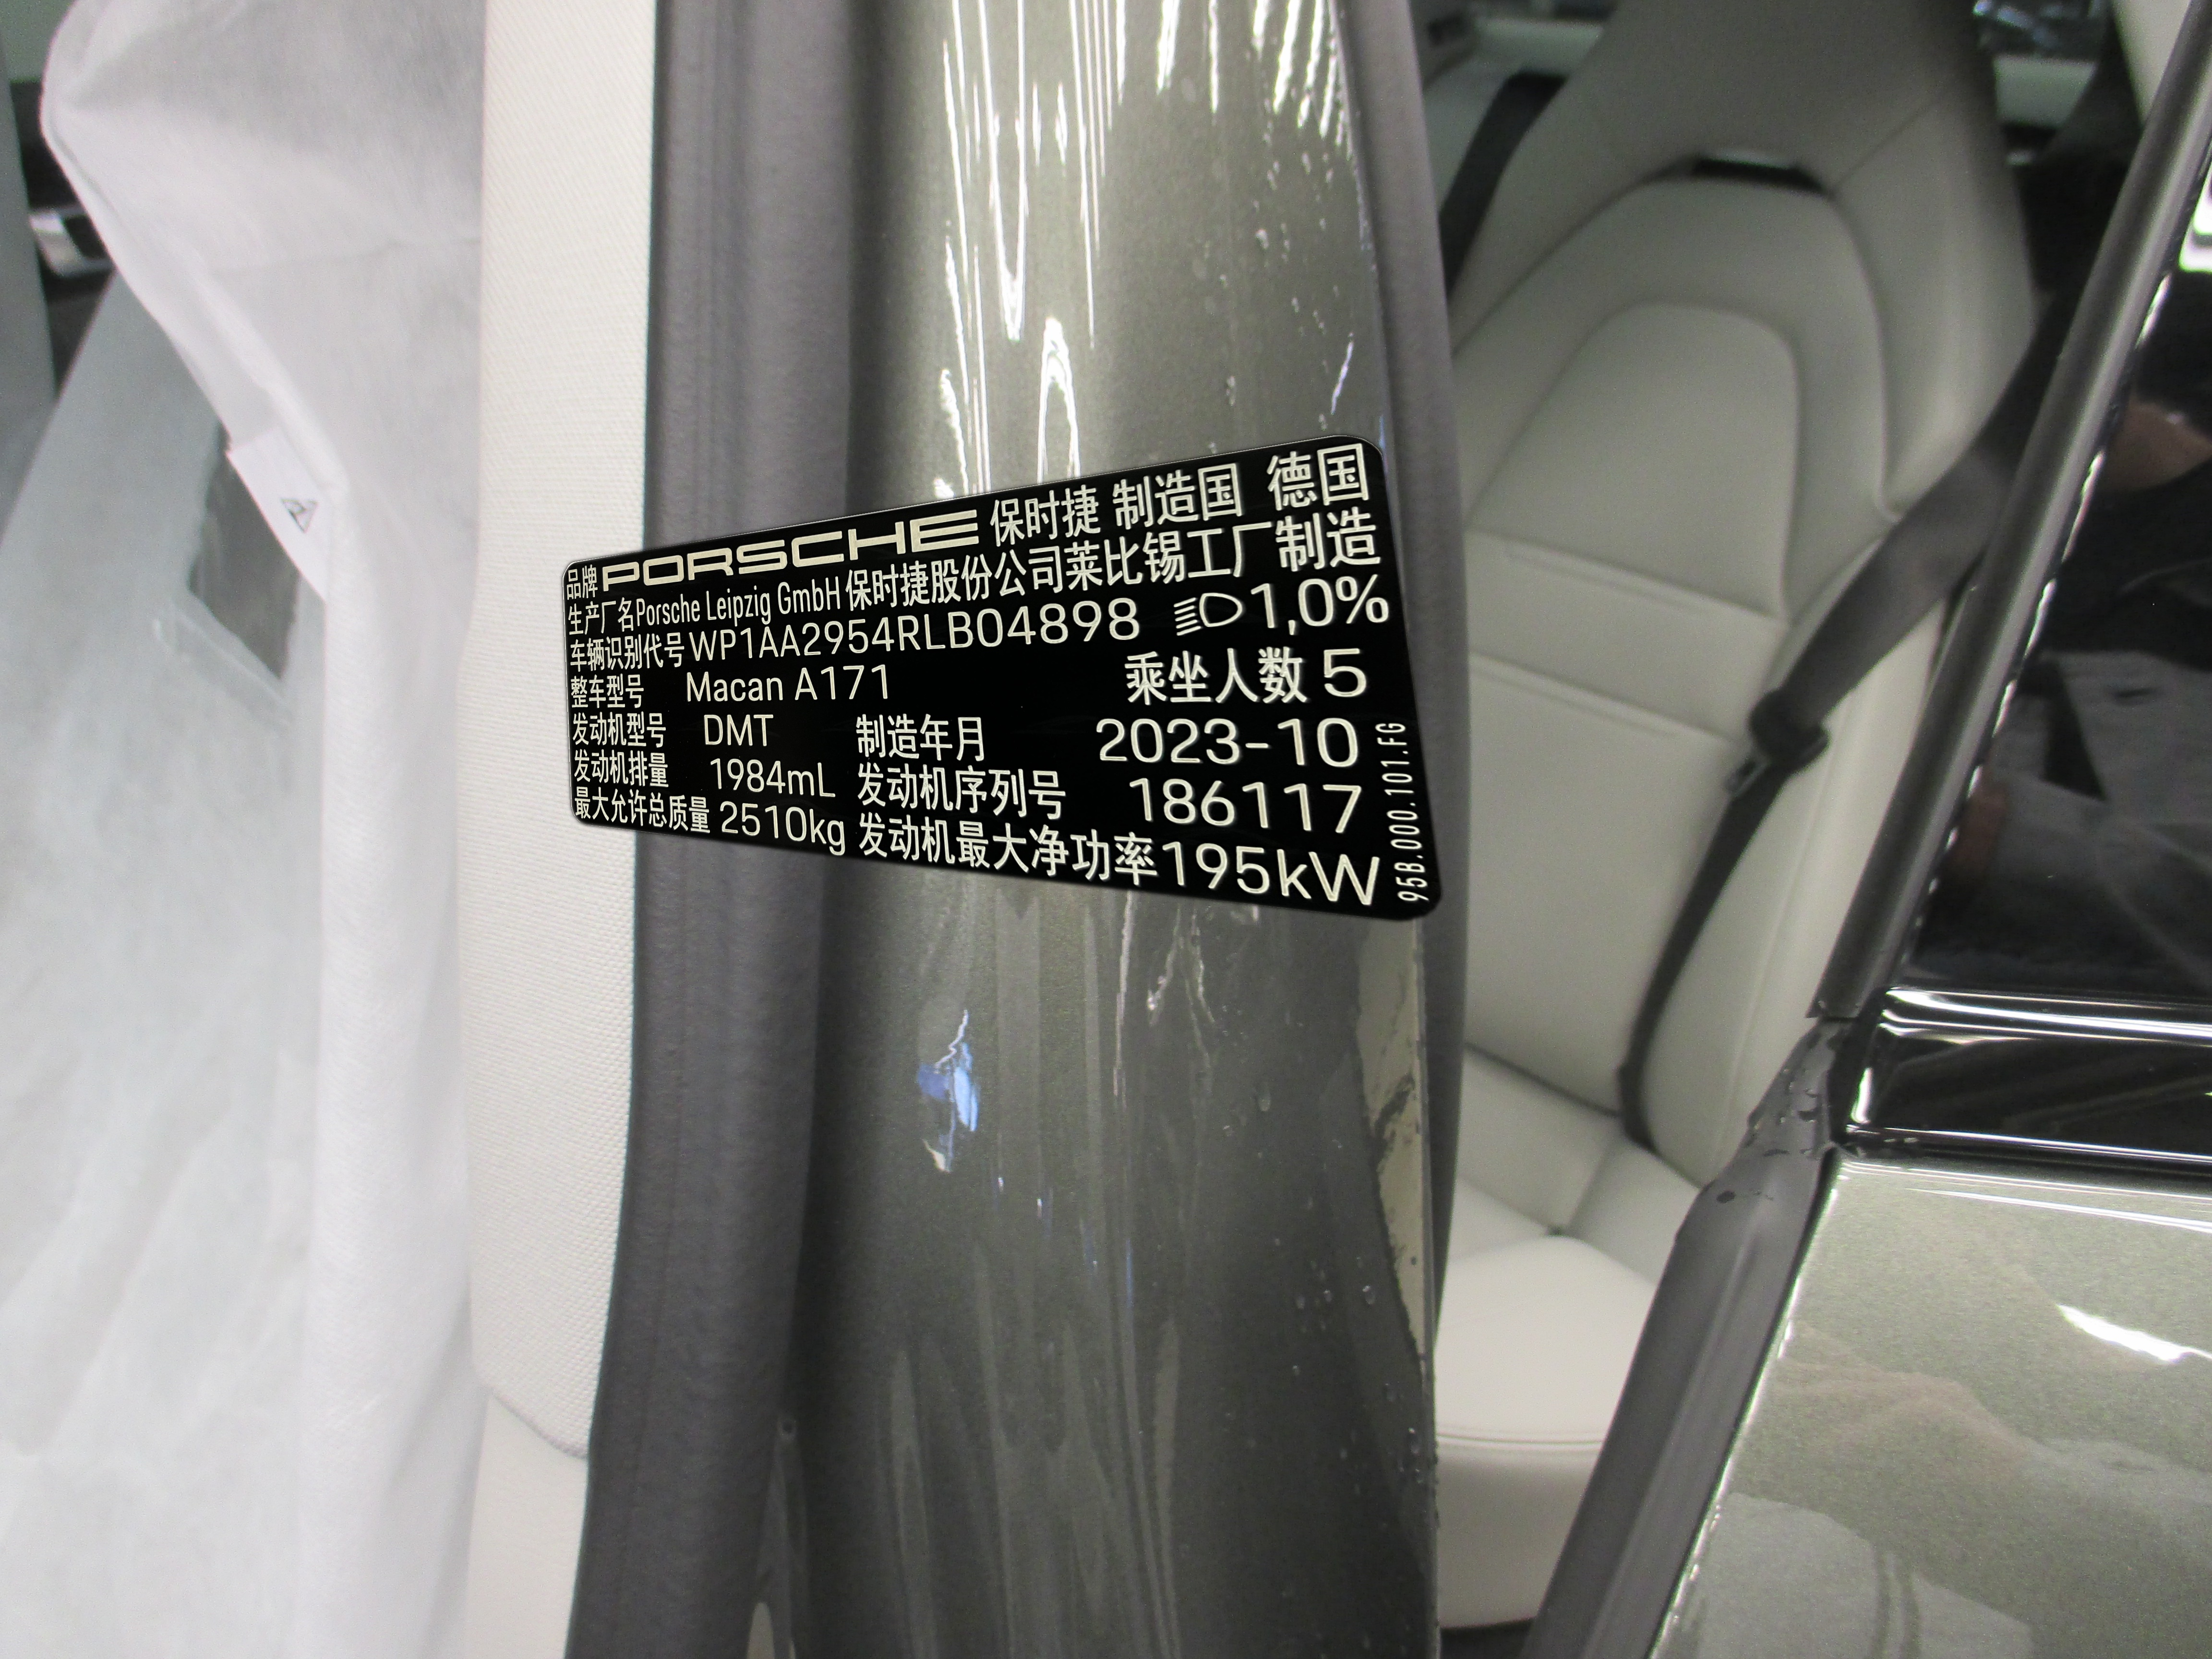Typlabel-China: (563, 436, 1442, 920)
